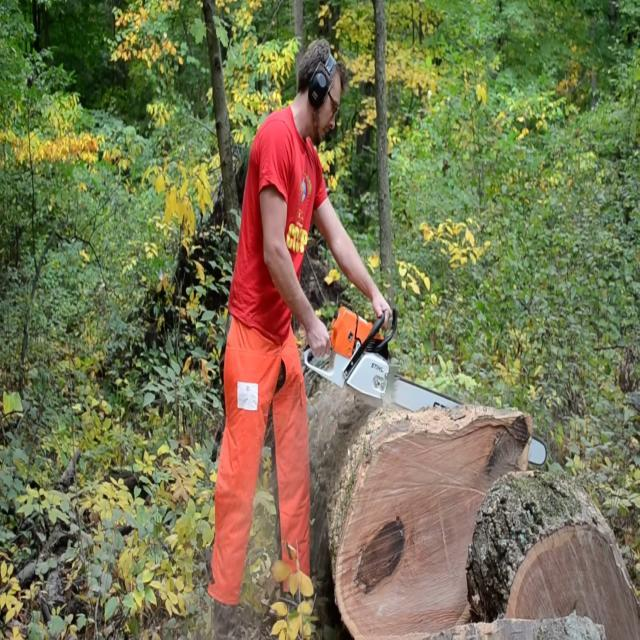Chainsaw: (290, 275, 555, 492)
